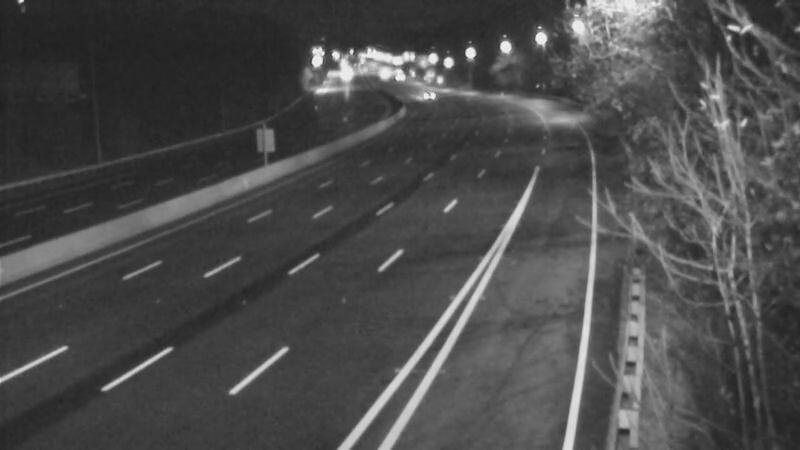vehicle: (357, 52, 407, 102), (372, 52, 422, 102), (403, 68, 453, 118)
